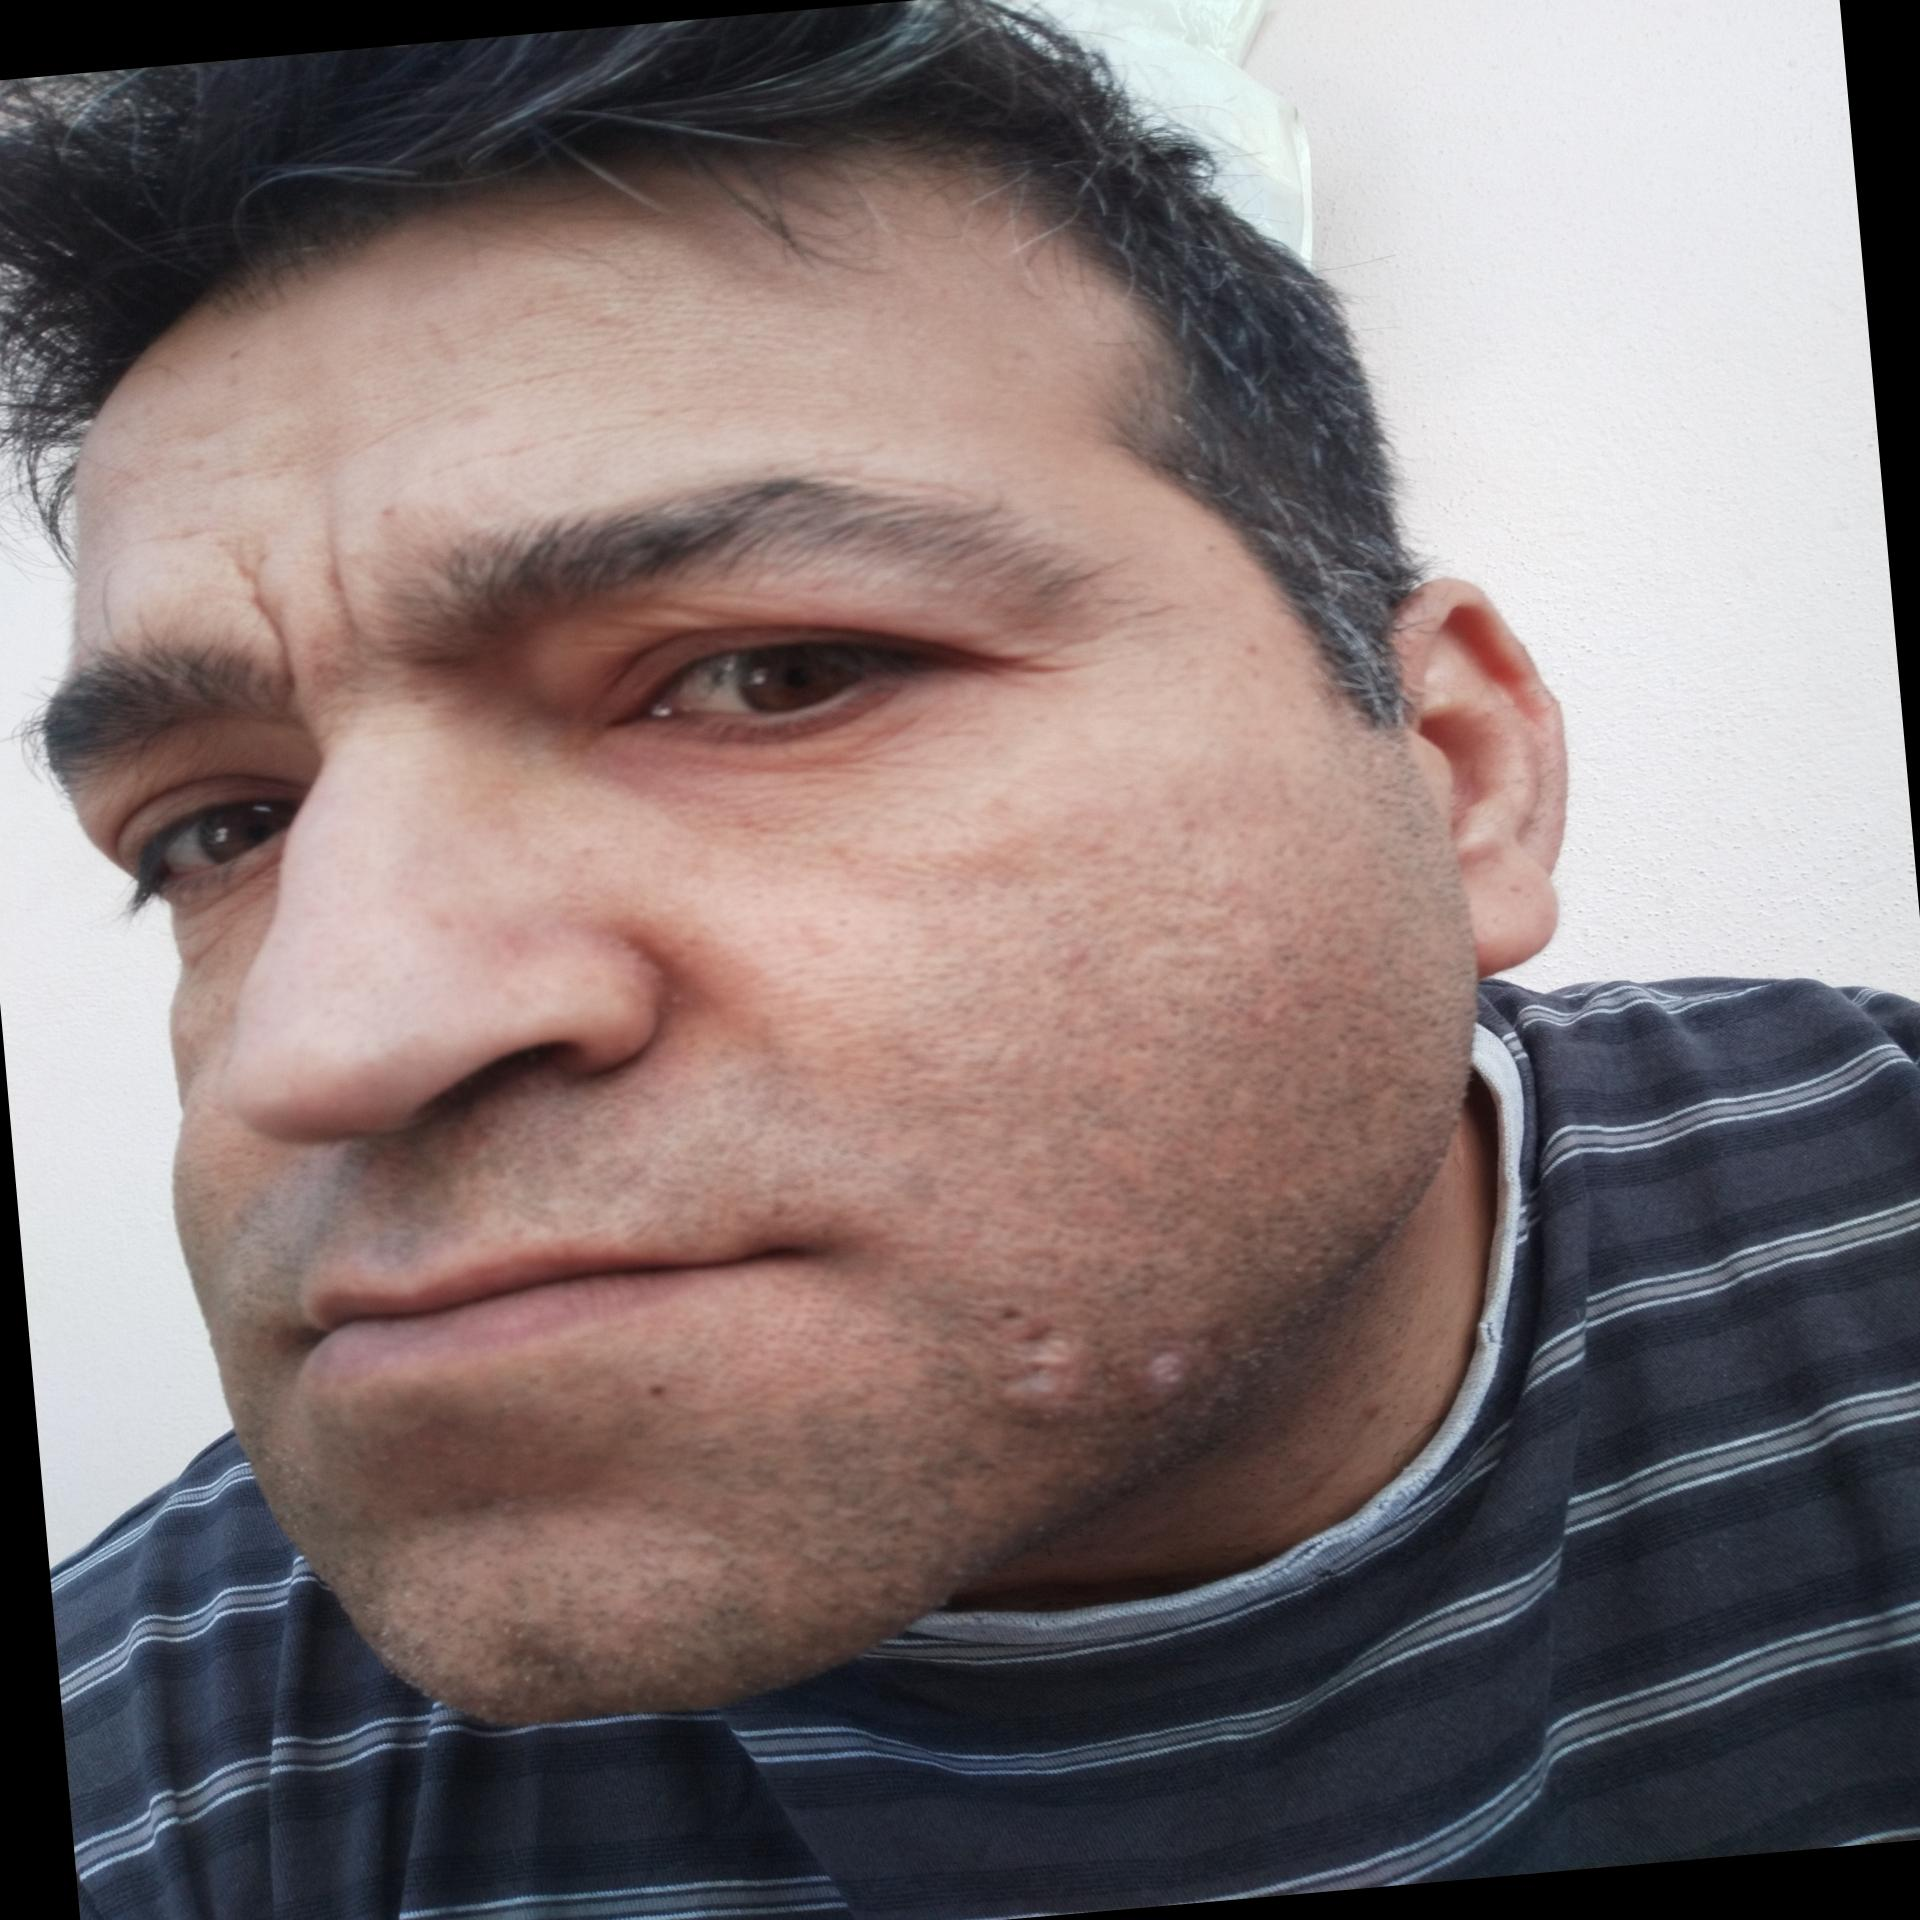Acne: (983, 1310, 1206, 1428)
Dark Circles: (575, 707, 1011, 858)
Englarged Pores: (717, 833, 1037, 1043)
Wrinkles: (408, 396, 781, 480), (636, 703, 949, 793), (353, 352, 605, 447), (153, 851, 308, 971), (213, 538, 311, 719), (309, 489, 387, 670), (986, 633, 1108, 689), (141, 403, 255, 454), (183, 455, 304, 491), (125, 526, 257, 557)
